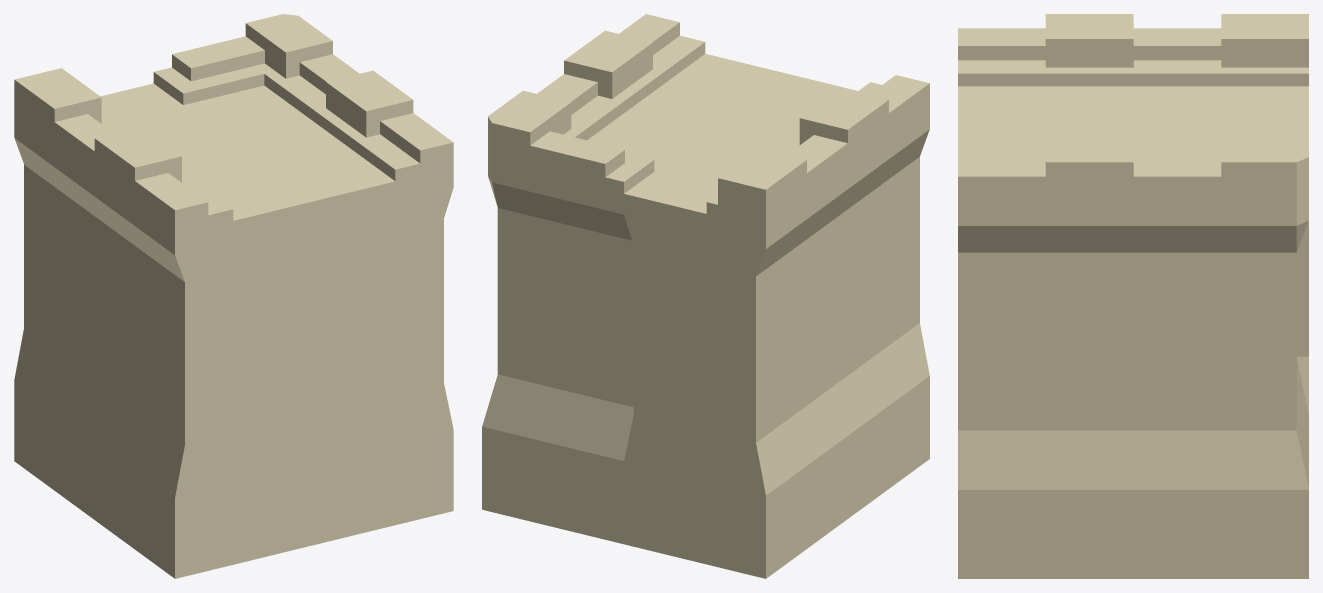
File: walltonarrow.glb
3 views of the same model, side by side, from view 1: azimuth 30°, elevation 25°; view 2: azimuth 150°, elevation 25°; view 3: azimuth 270°, elevation 25° (orthographic). The views are drawn at different scales.
Visible parts, largest first — view 1: wallToNarrow; view 2: wallToNarrow; view 3: wallToNarrow.
Boxes of the visible parts, x1,y1,x2,y2 form: wallToNarrow: [14, 14, 453, 578]; wallToNarrow: [482, 14, 929, 578]; wallToNarrow: [958, 14, 1308, 578].
Size of the model in its own units: 10 by 13.1 by 10.
